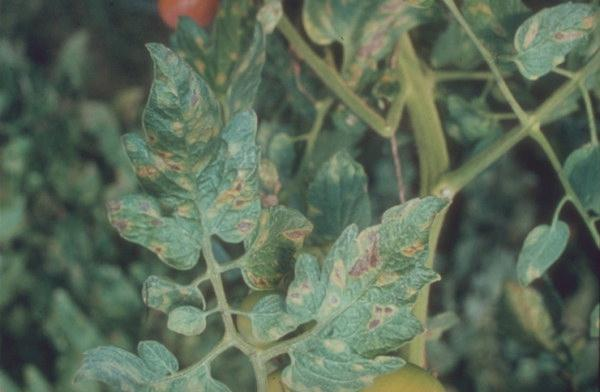Tomato mold leaf: (254, 193, 465, 389), (107, 36, 265, 270), (505, 4, 600, 81), (515, 211, 574, 293), (164, 299, 211, 337)
